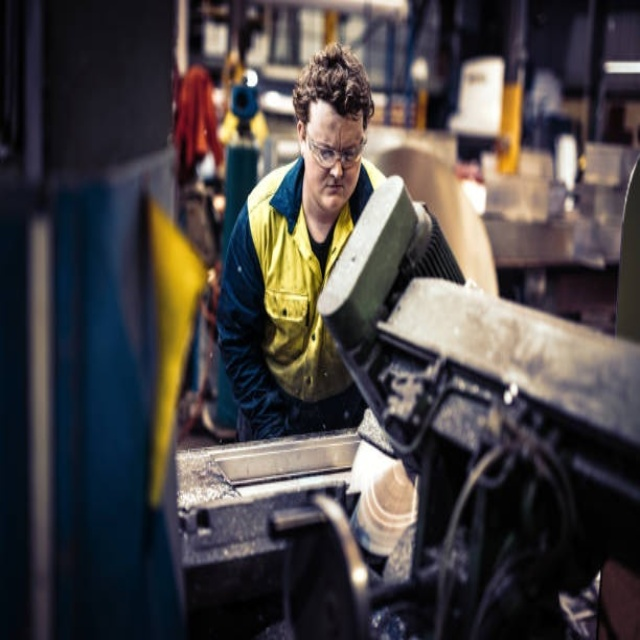Gafas: (305, 124, 366, 171)
Sin_mascara: (321, 177, 344, 209)
